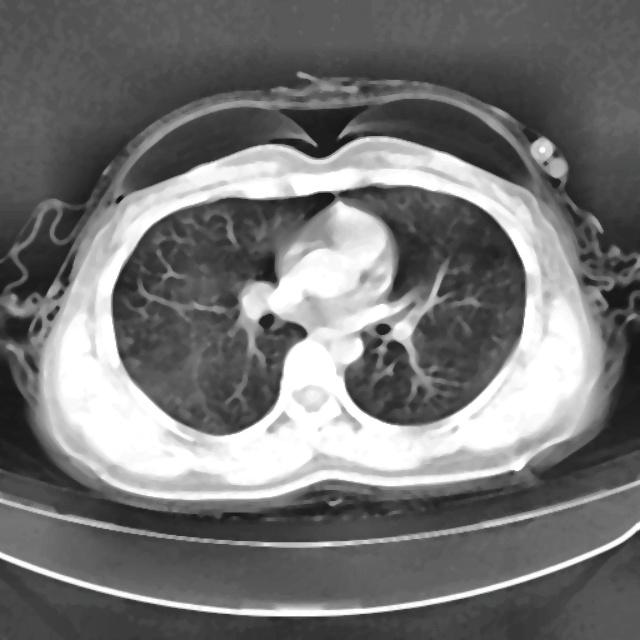covid: (2, 74, 636, 518)
